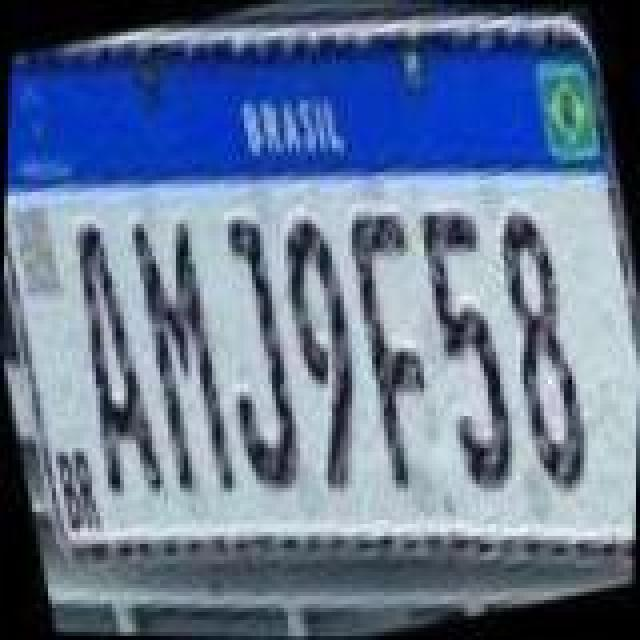5: (400, 196, 536, 500)
8: (474, 196, 606, 500)
9: (262, 202, 390, 498)
A: (44, 210, 176, 510)
F: (328, 192, 464, 496)
J: (188, 206, 320, 498)
M: (114, 204, 250, 504)
